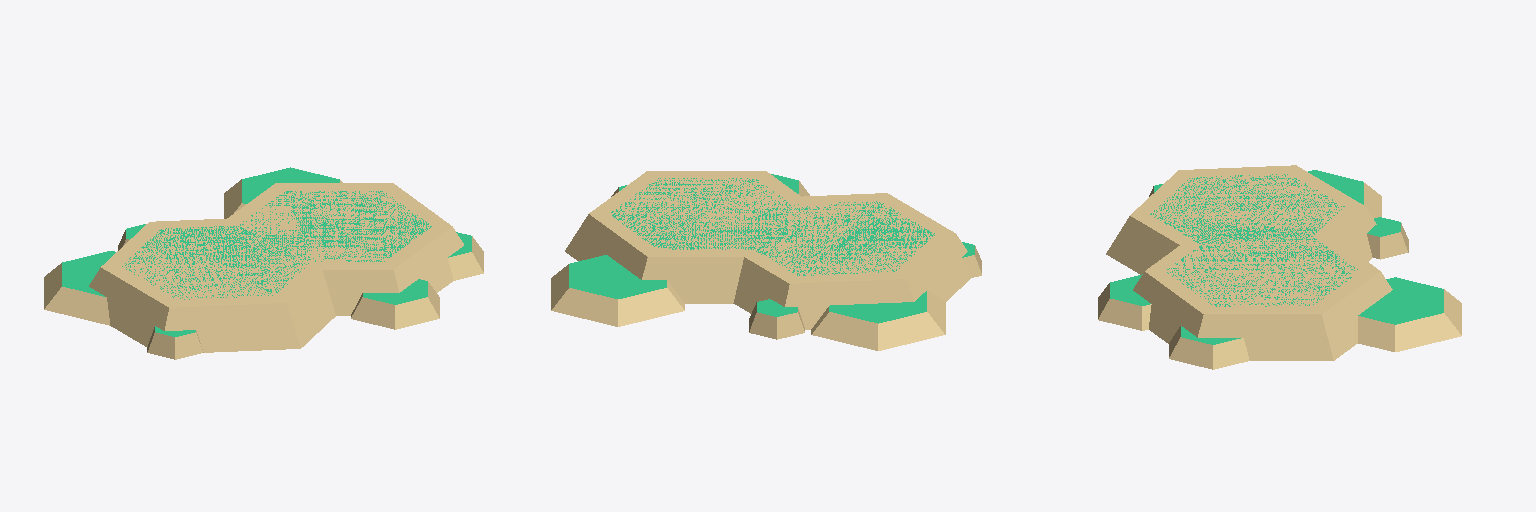
The model's file is rockFlatGrass.obj.
The picture shows the model from 3 angles: view 1: azimuth 30°, elevation 25°; view 2: azimuth 150°, elevation 25°; view 3: azimuth 270°, elevation 25°; orthographic projection.
Parts seen in each view (by area): view 1: rockFlatGrass; view 2: rockFlatGrass; view 3: rockFlatGrass.
Boxes of the visible parts, <box> form: rockFlatGrass: <box>44,167,483,359</box>; rockFlatGrass: <box>551,171,981,350</box>; rockFlatGrass: <box>1098,165,1461,369</box>.
Bounding box in the file's own units: 1.79 × 0.165 × 1.45.